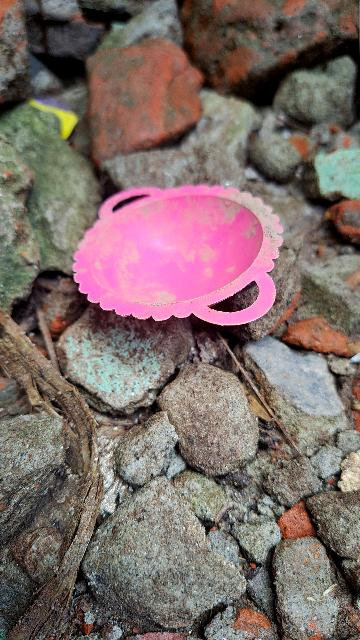hardplastic: (74, 178, 288, 324)
